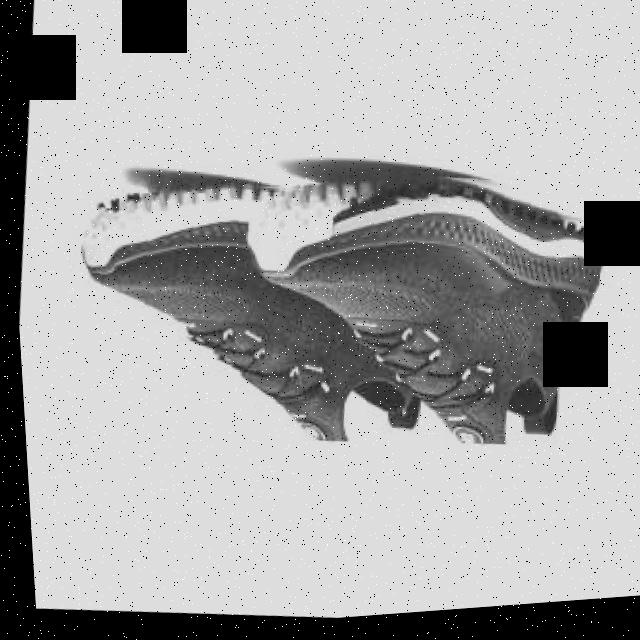shoe: (52, 155, 467, 472), (217, 146, 614, 476)
